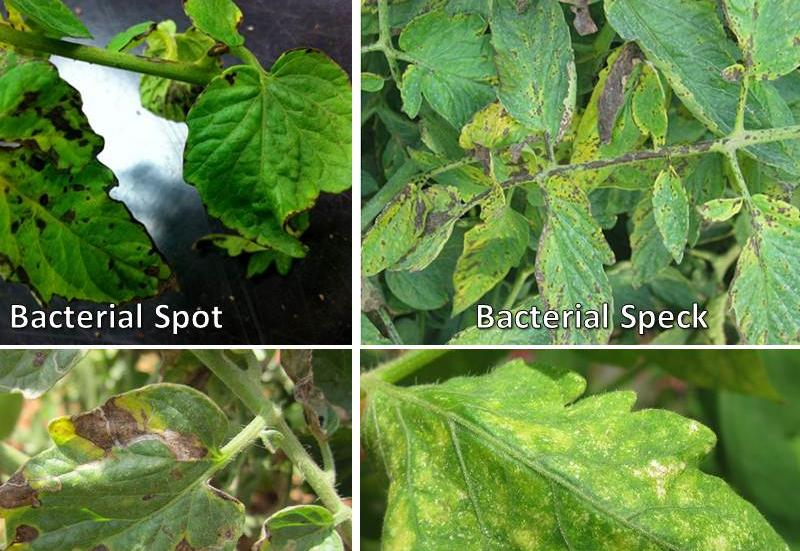Tomato Early blight leaf: (0, 377, 262, 551)
Tomato leaf bacterial spot: (0, 48, 183, 326), (173, 36, 352, 300), (377, 0, 521, 132), (468, 0, 584, 158), (694, 175, 800, 342), (525, 161, 609, 342), (448, 169, 531, 336), (372, 181, 467, 294), (621, 51, 674, 158)
